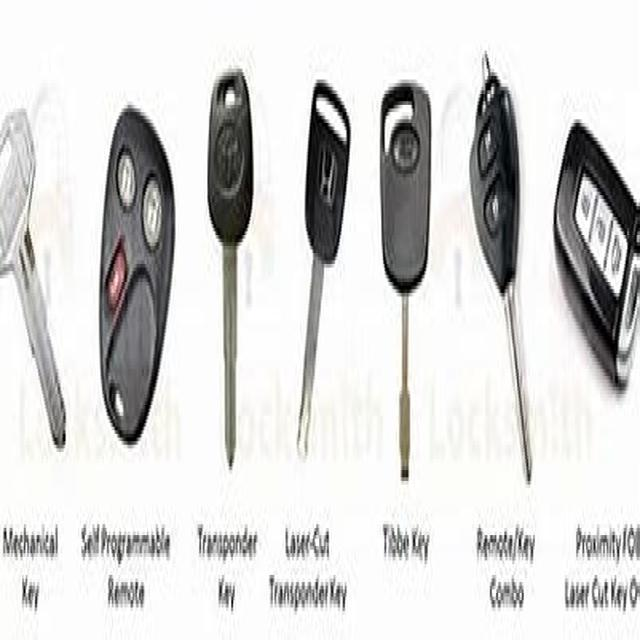key: (452, 14, 545, 538), (279, 30, 369, 508), (92, 55, 190, 453), (0, 55, 84, 517), (539, 75, 640, 443), (373, 50, 446, 495), (203, 28, 263, 472)
